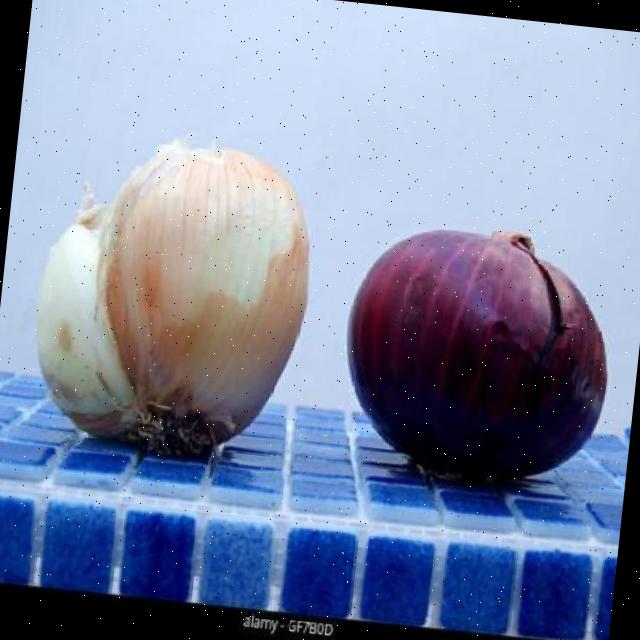Onion: (33, 138, 311, 466), (345, 230, 609, 485)
